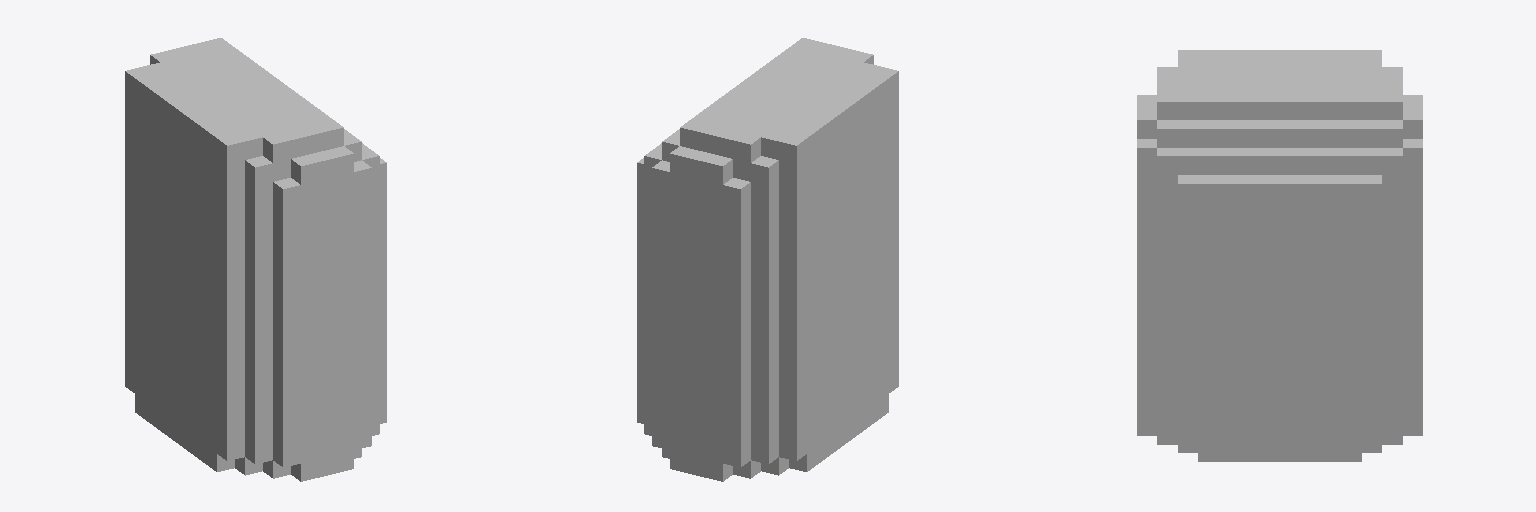
File: jager-4.obj
3 views of the same model, side by side, from view 1: azimuth 30°, elevation 25°; view 2: azimuth 150°, elevation 25°; view 3: azimuth 270°, elevation 25° (orthographic).
Visible parts, largest first — view 1: object 1; view 2: object 1; view 3: object 1.
Part boxes in pixels (left/top/right/bottom): object 1: left=125, top=38, right=386, bottom=481; object 1: left=637, top=38, right=898, bottom=481; object 1: left=1137, top=50, right=1422, bottom=461.
Size of the model in its own units: 0.9 by 1.8 by 1.4.